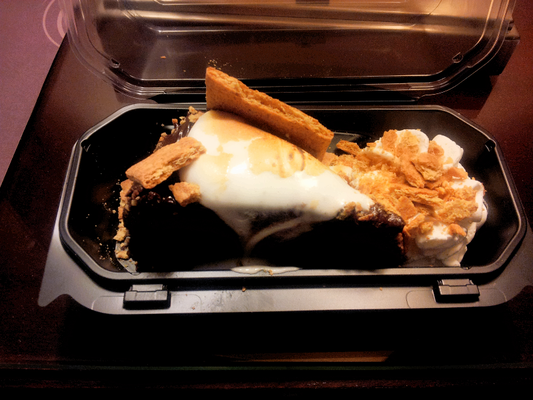sushi: (53, 104, 512, 308)
